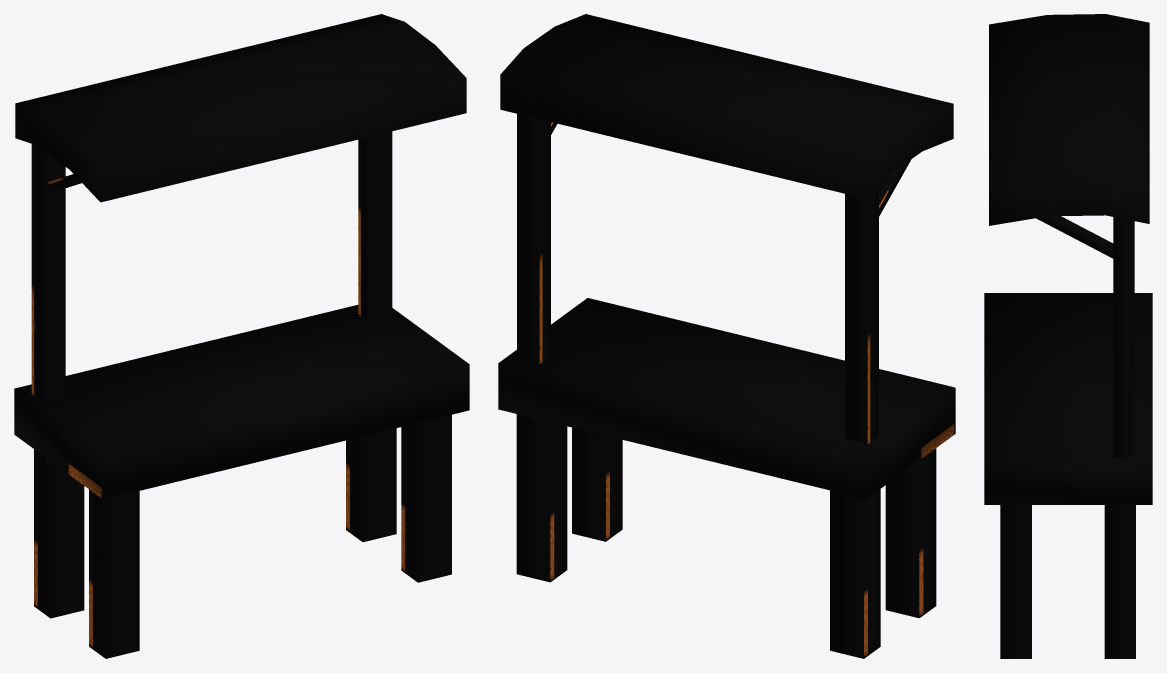
The model's file is Stand1.glb.
The picture shows the model from 3 angles, left to right: view 1: azimuth 30°, elevation 25°; view 2: azimuth 150°, elevation 25°; view 3: azimuth 270°, elevation 25°; orthographic projection. The views are drawn at different scales.
Visible parts, largest first — view 1: TavoloMercante; view 2: TavoloMercante; view 3: TavoloMercante.
Part boxes in pixels (x1=…): TavoloMercante: x1=14, y1=14, x2=469, y2=658; TavoloMercante: x1=498, y1=14, x2=955, y2=658; TavoloMercante: x1=984, y1=14, x2=1152, y2=658.
Bounding box in the file's own units: 4.75 × 6.31 × 2.
1 material, 1 textured.
